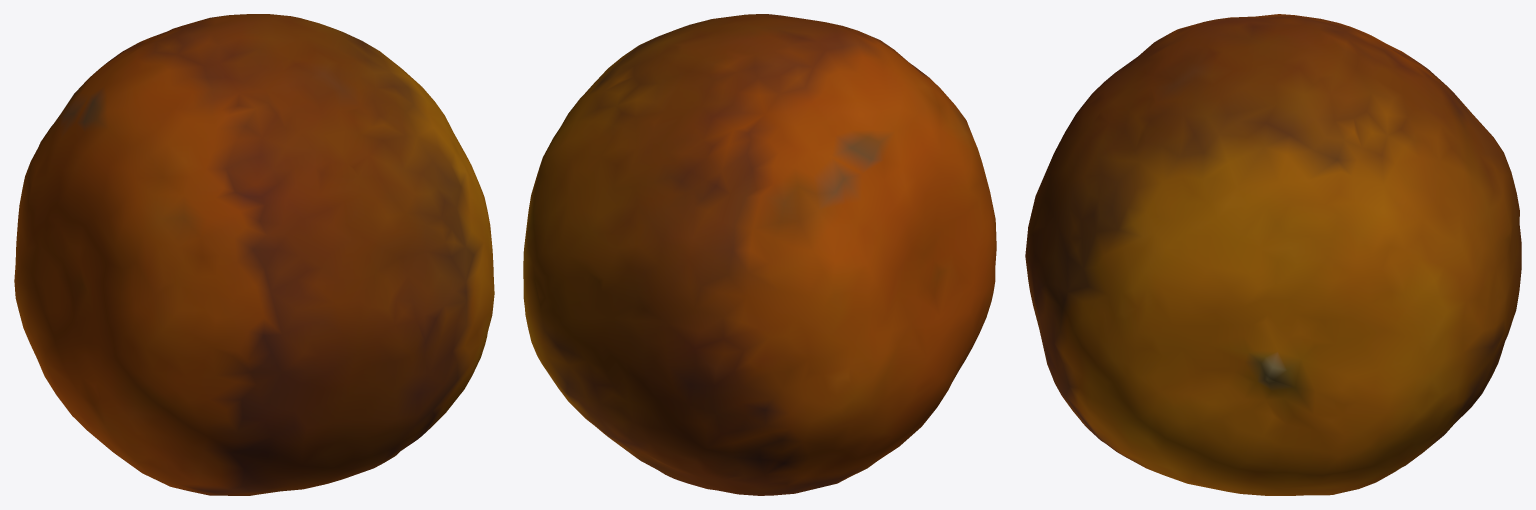
The model's file is textured_simple.obj.
The picture shows the model from 3 angles, left to right: view 1: azimuth 30°, elevation 25°; view 2: azimuth 150°, elevation 25°; view 3: azimuth 270°, elevation 25°; orthographic projection.
Size of the model in its own units: 6.44 by 6.97 by 7.18.
